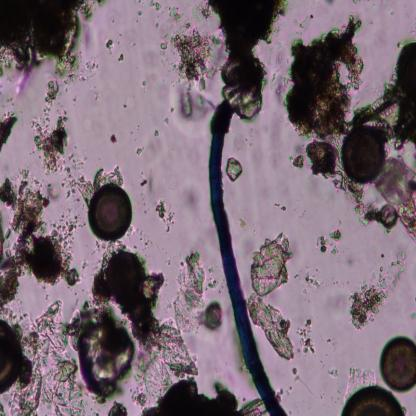Background material: (0, 165, 75, 306), (0, 304, 87, 414), (135, 322, 238, 414), (287, 15, 362, 138), (208, 1, 283, 119), (90, 246, 165, 346), (0, 0, 94, 77), (160, 8, 221, 116), (69, 304, 134, 403), (349, 250, 408, 328), (172, 250, 220, 335), (246, 290, 297, 360), (32, 79, 69, 172), (380, 155, 416, 245), (249, 230, 292, 296), (292, 139, 344, 187), (63, 158, 92, 206), (170, 178, 206, 214), (0, 110, 19, 152), (290, 269, 319, 296), (298, 316, 316, 357), (317, 228, 344, 255), (154, 198, 174, 233), (96, 163, 128, 182), (226, 156, 244, 184), (63, 266, 80, 285), (109, 400, 129, 414), (298, 14, 314, 30), (149, 0, 161, 12), (273, 202, 287, 212), (104, 37, 114, 50), (108, 132, 118, 144), (95, 89, 103, 103), (139, 178, 149, 187), (135, 147, 144, 157), (152, 127, 160, 138), (117, 53, 124, 63), (138, 7, 144, 18), (144, 83, 148, 90)
Cotton: (208, 101, 290, 415)
Diatom: (86, 183, 132, 242), (342, 125, 388, 184), (357, 92, 408, 135), (380, 336, 416, 392), (341, 385, 406, 416), (0, 319, 23, 392), (379, 202, 398, 229), (239, 399, 266, 414)
